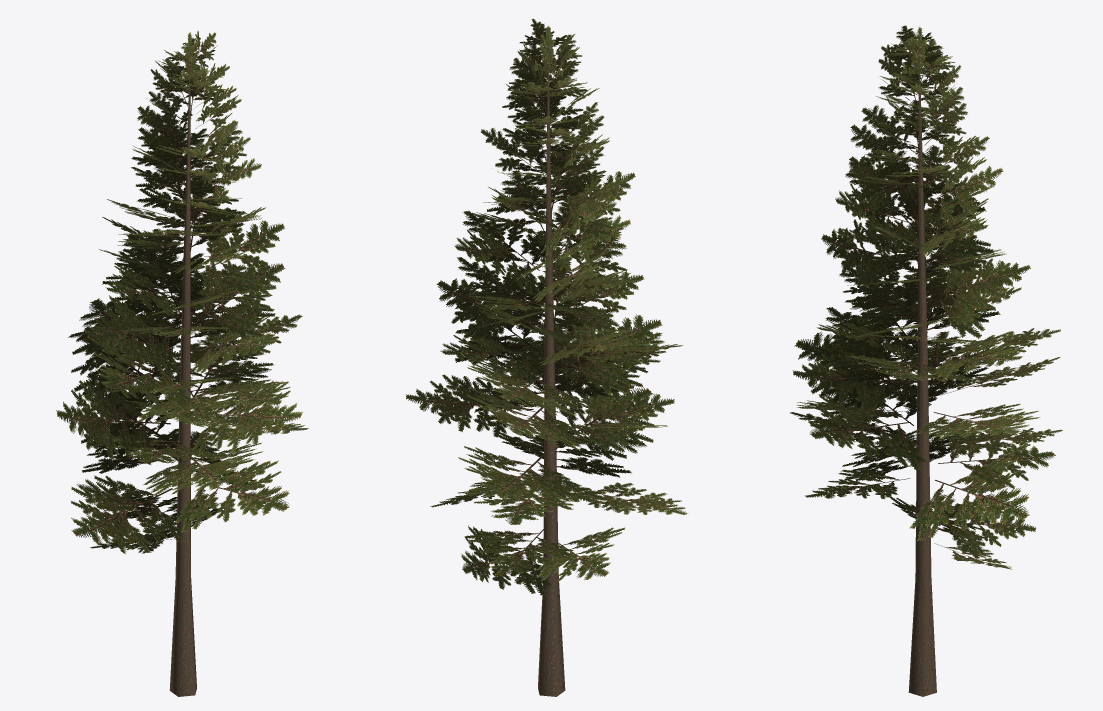
The model's file is fir_medium_b_lod4.gltf.
3 renders of one model, left to right at view 1: azimuth 30°, elevation 25°; view 2: azimuth 150°, elevation 25°; view 3: azimuth 270°, elevation 25°, orthographic.
Visible parts, largest first — view 1: fir_medium_b_LOD4; view 2: fir_medium_b_LOD4; view 3: fir_medium_b_LOD4.
Boxes of the visible parts, left/top/right/bottom form: fir_medium_b_LOD4: left=56, top=30, right=309, bottom=696; fir_medium_b_LOD4: left=406, top=18, right=688, bottom=696; fir_medium_b_LOD4: left=789, top=25, right=1062, bottom=696.
Bounding box in the file's own units: 10.6 × 23.52 × 10.76.
Materials: 2 (2 with a texture image).
